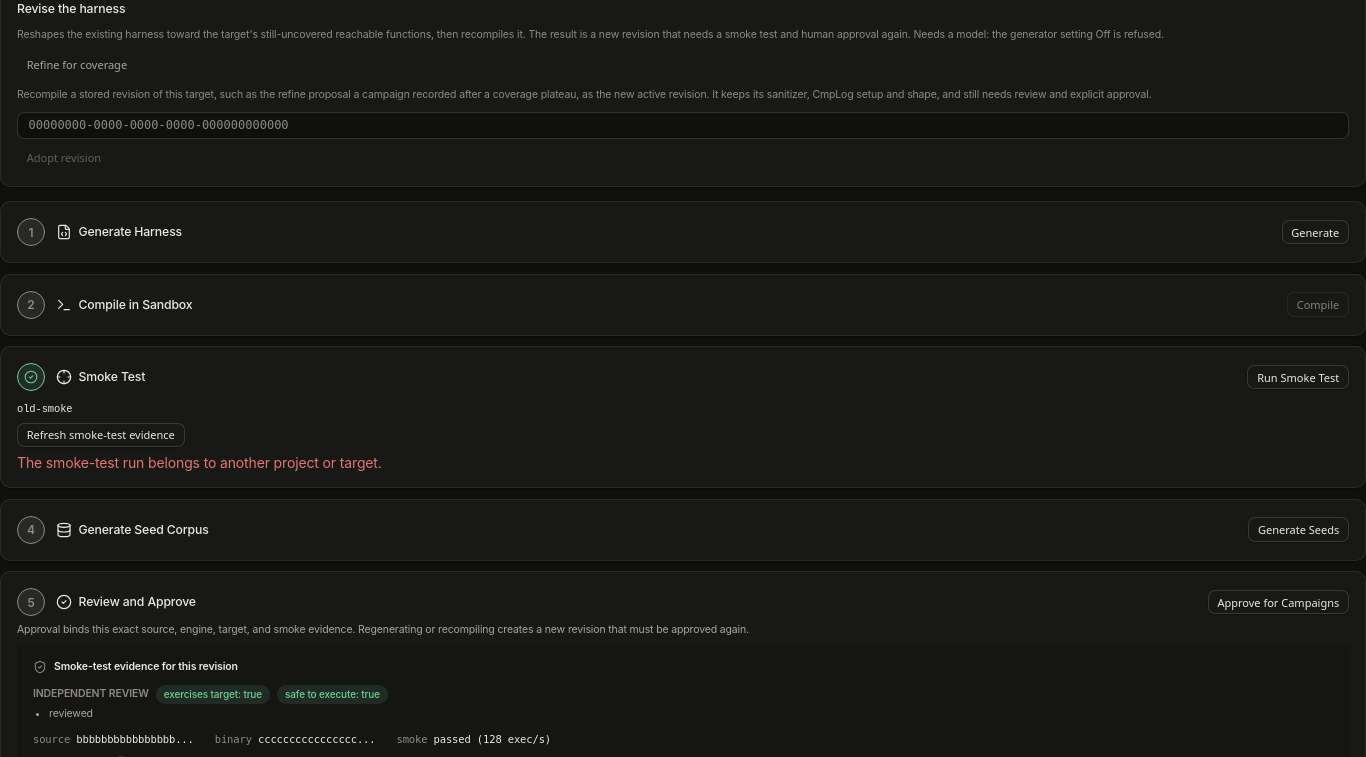
refreshes approval evidence from the active revision after a smoke test
The width and height of the screenshot is (1366, 757).
(page scrolled)
What coordinates should you click on to do the following:
click the button "Run Smoke Test"
I would click on:
 (1298, 377)
Its box is [1248,365,1349,389].
(page scrolled)
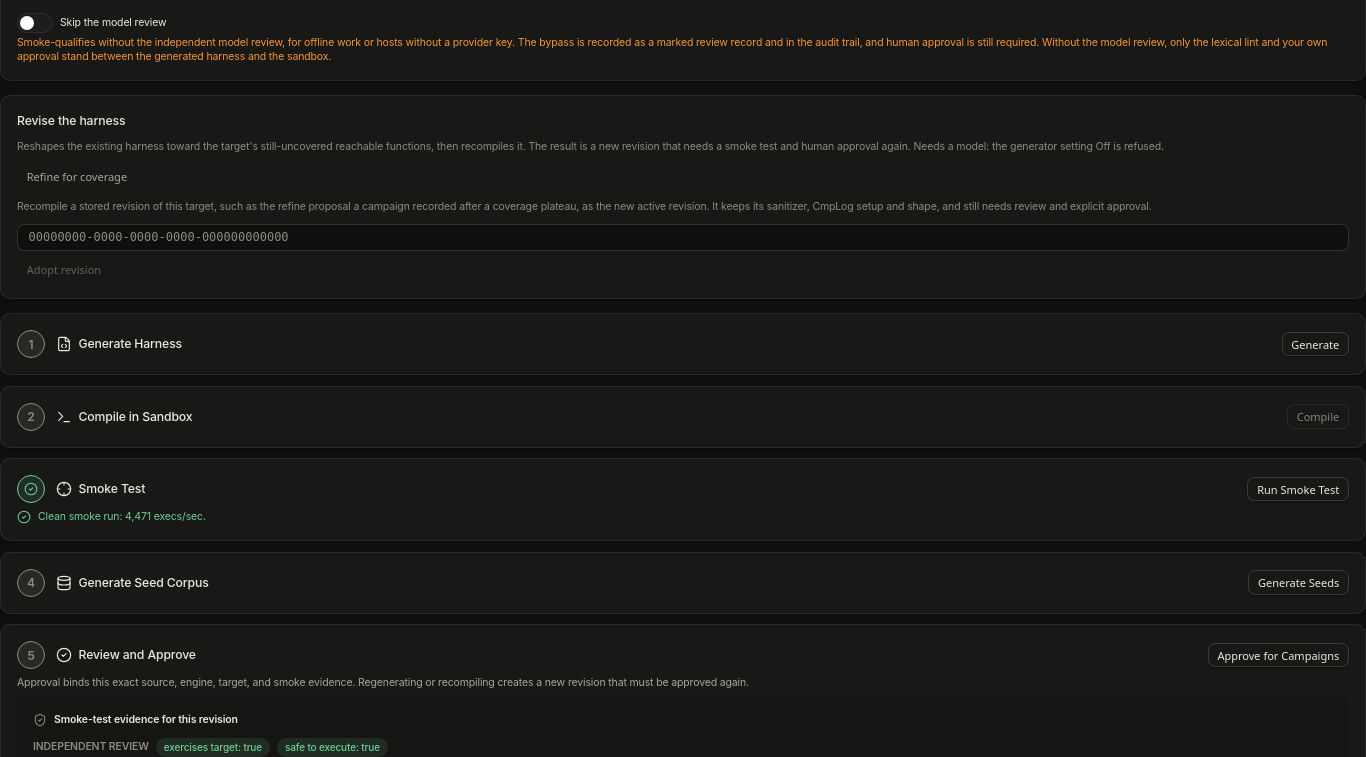
Now the text "128 exec/s" is gone
